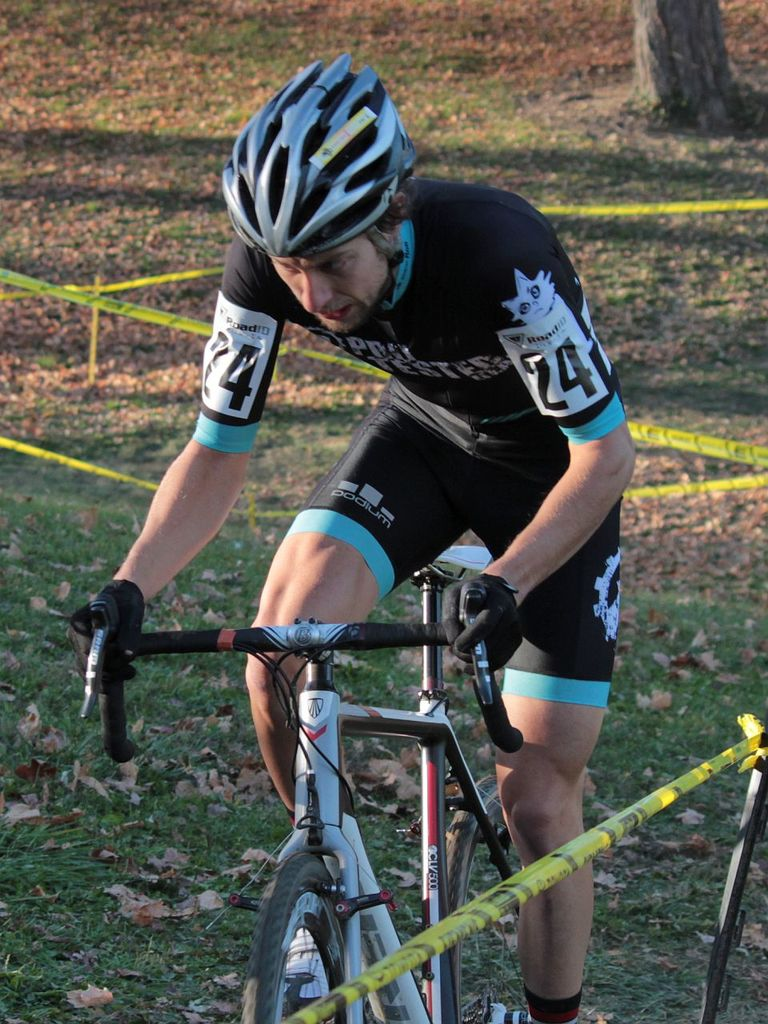Bike: (14, 557, 562, 1024)
